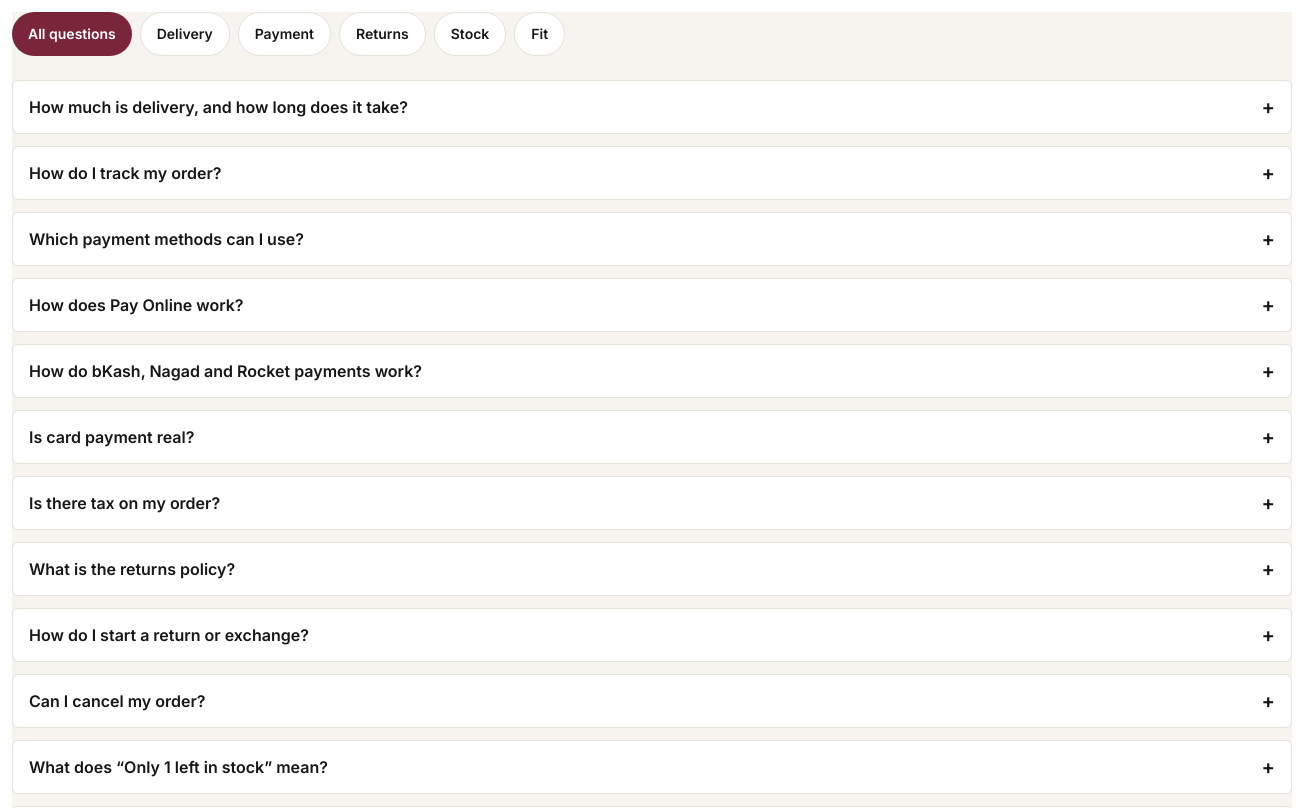
Test case: Help / FAQ (S-5, T-50) › states the demo delivery fees and tax, and labels them demo
Click the button "How much is delivery, and how long does it take?": (219, 107) [13,81,1291,133]
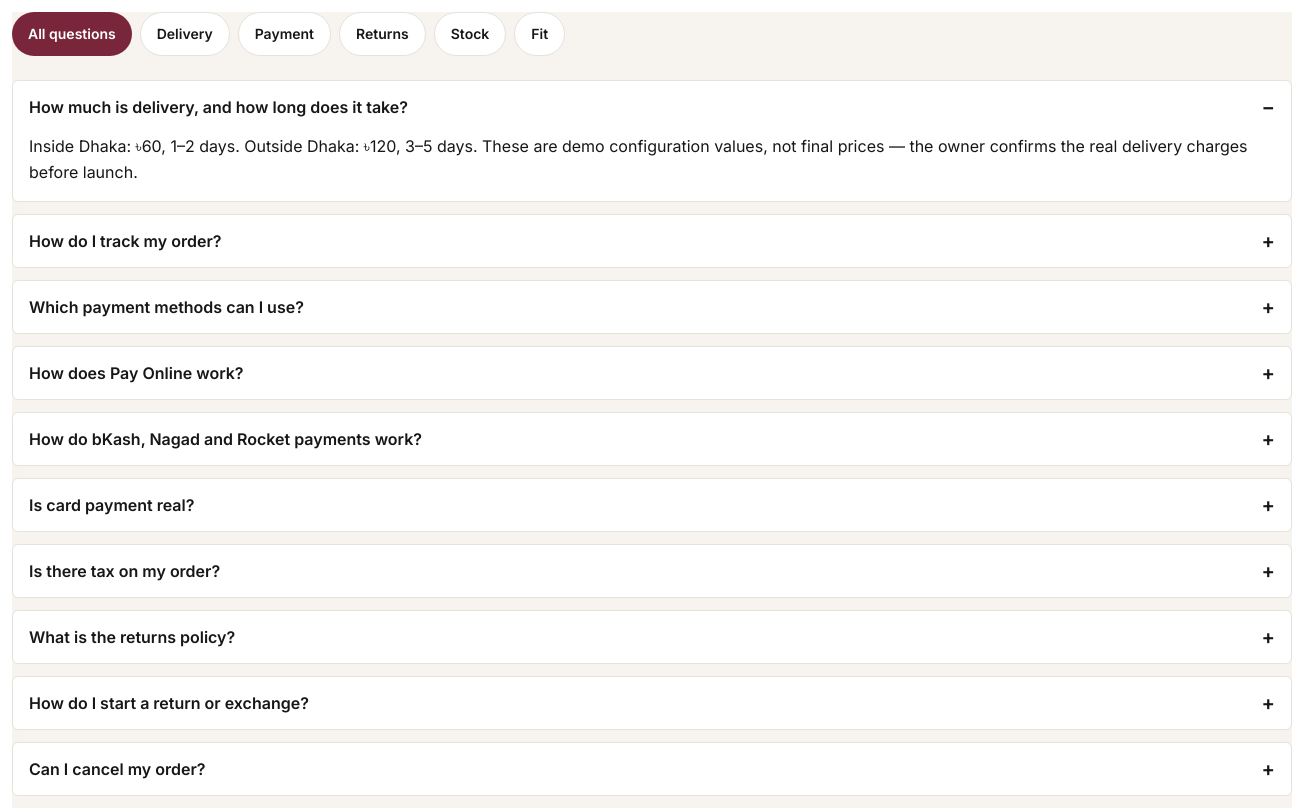
Expected: the text "demo configuration values" is shown, [29,136,1248,182]
